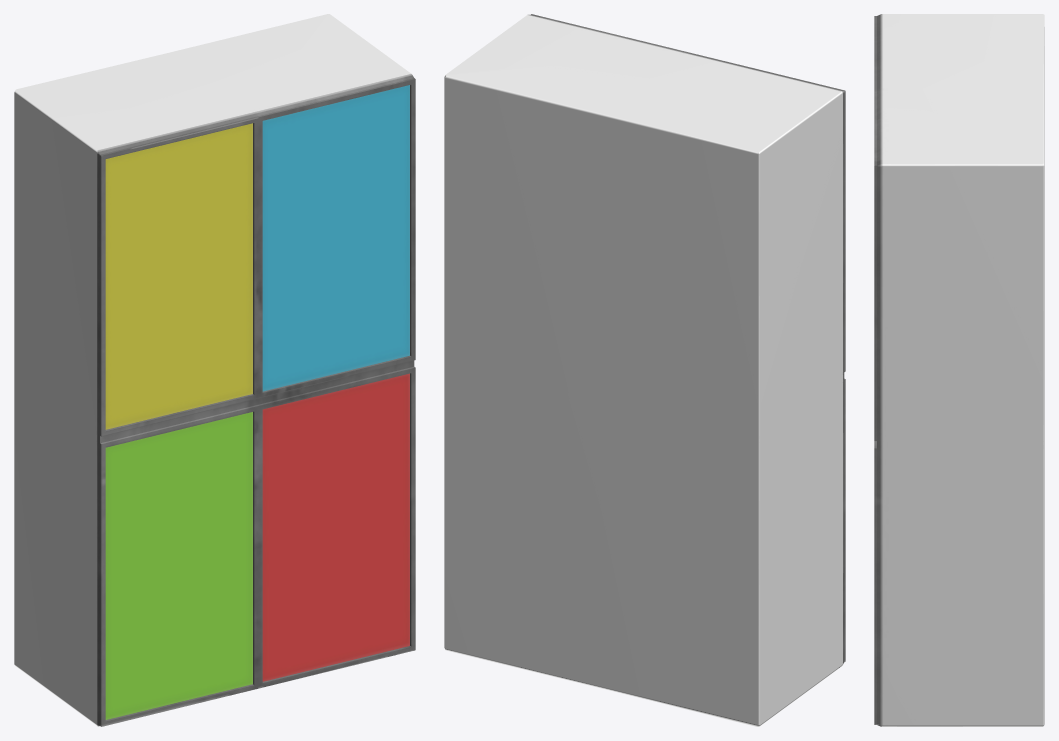
The model's file is color_storage.fbx.
3 renders of one model, left to right at view 1: azimuth 30°, elevation 25°; view 2: azimuth 150°, elevation 25°; view 3: azimuth 270°, elevation 25°, orthographic. The views are drawn at different scales.
Visible parts, largest first — view 1: color_storage_back, Glass_4, Glass_3, Glass_1, Glass_2, color_storage_frame; view 2: color_storage_back, color_storage_frame; view 3: color_storage_back, color_storage_frame.
Boxes of the visible parts, <box> form: color_storage_back: <box>14,14,411,725</box>; Glass_4: <box>262,373,409,681</box>; Glass_3: <box>105,412,252,719</box>; Glass_1: <box>262,85,409,391</box>; Glass_2: <box>105,123,252,429</box>; color_storage_frame: <box>97,74,415,726</box>; color_storage_back: <box>444,14,842,726</box>; color_storage_frame: <box>530,14,845,663</box>; color_storage_back: <box>881,14,1044,726</box>; color_storage_frame: <box>874,14,881,726</box>.
Bounding box in the file's own units: 87.62 × 152 × 41.81.
Materials: 1 (1 with a texture image).
